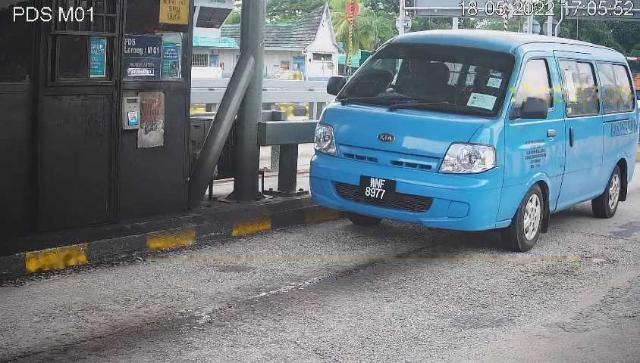License_Plate: (359, 176, 398, 207)
van: (312, 31, 640, 253)
